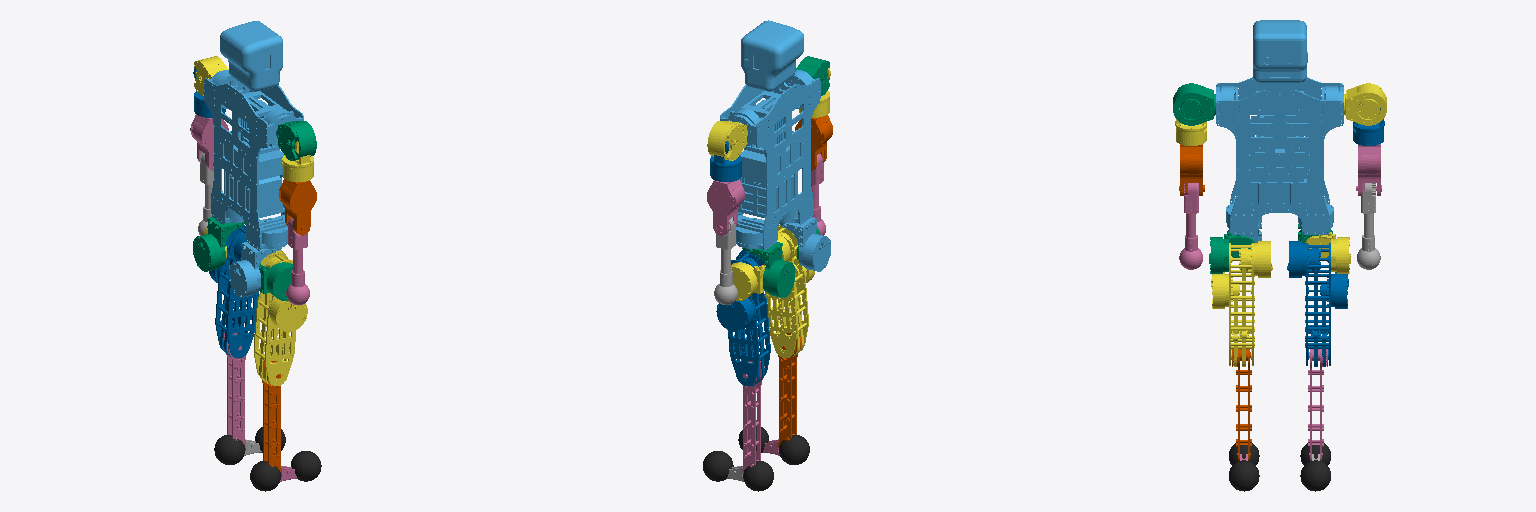
--- Render facts (derived) ---
Views: 3 orthographic renders of the robot side by side, from view 1: azimuth 30°, elevation 25°; view 2: azimuth 150°, elevation 25°; view 3: azimuth 270°, elevation 25°.
Model achilles with 33 links and 32 joints (10 revolute, 22 fixed), rooted at base_link, posed every joint at zero.
Visible links, largest first — view 1: torso, right_hip_pitch, left_hip_pitch, left_knee_pitch, right_knee_pitch, left_hip_yaw, right_shoulder_yaw, right_hip_yaw, right_shoulder_pitch, right_elbow_pitch, right_hip_roll, left_shoulder_yaw (+6 smaller); view 2: torso, left_hip_pitch, right_hip_pitch, right_knee_pitch, left_knee_pitch, right_hip_yaw, left_shoulder_yaw, left_hip_yaw, left_shoulder_pitch, left_elbow_pitch, left_hip_roll, right_shoulder_yaw (+6 smaller); view 3: torso, left_hip_pitch, right_hip_pitch, left_shoulder_pitch, right_shoulder_pitch, right_elbow_pitch, left_elbow_pitch, right_shoulder_yaw, left_shoulder_yaw, left_hip_roll, right_hip_roll, left_knee_pitch (+5 smaller).
Boxes of the visible links, x1=… form: torso: x1=204, y1=21, x2=303, y2=250; right_hip_pitch: x1=254, y1=250, x2=307, y2=385; left_hip_pitch: x1=209, y1=225, x2=258, y2=357; left_knee_pitch: x1=223, y1=333, x2=246, y2=447; right_knee_pitch: x1=259, y1=361, x2=281, y2=472; left_hip_yaw: x1=193, y1=217, x2=244, y2=271; right_shoulder_yaw: x1=279, y1=179, x2=316, y2=235; right_hip_yaw: x1=229, y1=242, x2=281, y2=297; right_shoulder_pitch: x1=277, y1=121, x2=316, y2=160; right_elbow_pitch: x1=286, y1=217, x2=309, y2=304; right_hip_roll: x1=259, y1=262, x2=292, y2=300; left_shoulder_yaw: x1=190, y1=114, x2=228, y2=170; torso: x1=720, y1=20, x2=820, y2=250; left_hip_pitch: x1=716, y1=250, x2=770, y2=385; right_hip_pitch: x1=765, y1=225, x2=814, y2=357; right_knee_pitch: x1=778, y1=333, x2=800, y2=446; left_knee_pitch: x1=742, y1=361, x2=764, y2=473; right_hip_yaw: x1=779, y1=217, x2=830, y2=271; left_shoulder_yaw: x1=707, y1=179, x2=744, y2=235; left_hip_yaw: x1=742, y1=242, x2=794, y2=297; left_shoulder_pitch: x1=707, y1=121, x2=747, y2=160; left_elbow_pitch: x1=714, y1=217, x2=737, y2=304; left_hip_roll: x1=731, y1=262, x2=765, y2=300; right_shoulder_yaw: x1=795, y1=115, x2=832, y2=170; torso: x1=1216, y1=20, x2=1343, y2=234; left_hip_pitch: x1=1287, y1=241, x2=1348, y2=366; right_hip_pitch: x1=1211, y1=241, x2=1272, y2=366; left_shoulder_pitch: x1=1344, y1=83, x2=1386, y2=125; right_shoulder_pitch: x1=1173, y1=83, x2=1215, y2=125; right_elbow_pitch: x1=1179, y1=183, x2=1202, y2=269; left_elbow_pitch: x1=1357, y1=183, x2=1380, y2=269; right_shoulder_yaw: x1=1179, y1=144, x2=1204, y2=195; left_shoulder_yaw: x1=1356, y1=144, x2=1381, y2=195; left_hip_roll: x1=1305, y1=232, x2=1350, y2=273; right_hip_roll: x1=1209, y1=232, x2=1254, y2=273; left_knee_pitch: x1=1308, y1=349, x2=1327, y2=460.
Bounding box of the posed robot: 0.2424 × 0.536 × 1.23 m (x, y, z).
19 mesh visuals loaded from 17 distinct referenced files (17 OBJ).

The robot description file, URDF, robot "achilles":
<?xml version="1.0" ?>
<robot name="achilles">

   <!-- Materials -->
  <material name="black">
    <color rgba="0.2 0.2 0.2 1" />
  </material>
  <material name="caltech_orange">
    <color rgba="0.92 0.39 0.043 1" />
  </material>

  <!-- Base -->
  <link name="base_link"/>
  <link name="torso">
    <inertial>
      <origin rpy="0 0 0" xyz="0 0 -0.107903"/>
      <mass value="8.3"/>
      <inertia ixx="0.172676" ixy="0.0" ixz="0.0" iyy="0.102985" iyz="0.0" izz="0.087971"/>
    </inertial>
    <visual>
      <origin rpy="0 0 0" xyz="0 0 0"/>
      <geometry>
        <mesh filename="../meshes/achilles_obj/torso.obj"/>
      </geometry>
    </visual>
  </link>
  <joint name="base_to_torso_joint" type="fixed">
    <parent link="base_link"/>
    <child link="torso"/>
    <origin rpy="0 0 0" xyz="0 0 0"/>
  </joint>

  <!-- Left Leg -->
  <link name="left_hip_yaw">
    <inertial>
      <origin rpy="0 0 0" xyz="-0.066483 -0.001451 -0.062589"/>
      <mass value="0.80187"/>
      <inertia ixx="0.001907" ixy="0" ixz="0" iyy="0.002034" iyz="0" izz="0.001175"/>
    </inertial>
    <visual>
      <origin rpy="0 0 0" xyz="0 0 0"/>
      <geometry>
        <mesh filename="../meshes/achilles_obj/left_hip_yaw.obj"/>
      </geometry>
    </visual>
  </link>
  <joint name="left_hip_yaw_joint" type="revolute">
    <axis xyz="0 0 1"/>
    <limit effort="35.0" lower="-1" upper="1" velocity="20"/>
    <dynamics damping="0.01"/>
    <origin rpy="0 0 0" xyz="0 0.090 -0.334"/>
    <parent link="torso"/>
    <child link="left_hip_yaw"/>
  </joint>

  <link name="left_hip_roll">
    <inertial>
      <origin rpy="0 0 0" xyz="0.0465 0.055 0.000784"/>
      <mass value="0.843"/>
      <inertia ixx="0.000867" ixy="0" ixz="0" iyy="0.001086" iyz="0" izz="0.001082"/>
    </inertial>
    <visual>
      <origin rpy="0 0 0" xyz="0 0 0"/>
      <geometry>
        <mesh filename="../meshes/achilles_obj/left_hip_roll.obj"/>
      </geometry>
    </visual>
  </link>
  <joint name="left_hip_roll_joint" type="revolute">
    <axis xyz="1 0 0"/>
    <limit effort="70.0" lower="-1" upper="1" velocity="10"/>
    <dynamics damping="0.01"/>
    <origin rpy="0 0 0" xyz="-0.055 0 -0.083"/>
    <parent link="left_hip_yaw"/>
    <child link="left_hip_roll"/>
  </joint>

  <link name="left_hip_pitch">
    <inertial>
      <origin rpy="0 0 0" xyz="0.0139 -0.0336 -0.076"/>
      <mass value="2.42"/>
      <inertia ixx="0.0206" ixy="0" ixz="0" iyy="0.0173" iyz="0" izz="0.00594"/>
    </inertial>
    <visual>
      <origin rpy="0 0 0" xyz="0 0 0"/>
      <geometry>
        <mesh filename="../meshes/achilles_obj/left_hip_pitch.obj"/>
      </geometry>
    </visual>
  </link>
  <joint name="left_hip_pitch_joint" type="revolute">
    <axis xyz="0 1 0"/>
    <limit effort="35.0" lower="-1.5" upper="1.5" velocity="20"/>
    <dynamics damping="0.01"/>
    <origin rpy="0 0 0" xyz="0.055 0.0395 0"/>
    <parent link="left_hip_roll"/>
    <child link="left_hip_pitch"/>
  </joint>

  <link name="left_hip_center">
    <inertial>
      <origin rpy="0 0 0" xyz="0 0 0"/>
      <mass value="0.001"/>
      <inertia ixx="1e-06" ixy="0.0" ixz="0.0" iyy="1e-06" iyz="0.0" izz="1e-06"/>
    </inertial>
  </link>
  <joint name="left_hip_center_joint" type="fixed">
    <origin rpy="0 0 0" xyz="0 -0.0395 0"/>
    <parent link="left_hip_pitch"/>
    <child link="left_hip_center"/>
  </joint>

  <link name="left_knee_pitch">
    <inertial>
      <origin rpy="0 0 0" xyz="0.001 0.003 -0.131"/>
      <mass value="0.556"/>
      <inertia ixx="0.00666" ixy="0" ixz="0" iyy="0.006613" iyz="0" izz="0.000226"/>
    </inertial>
    <visual>
      <origin rpy="0 0 0" xyz="0 0 0"/>
      <geometry>
        <mesh filename="../meshes/achilles_obj/left_knee_pitch.obj"/>
      </geometry>
    </visual>
  </link>
  <joint name="left_knee_pitch_joint" type="revolute">
    <axis xyz="0 1 0"/>
    <origin rpy="0 0 0" xyz="0.0 -0.0395 -0.275"/>
    <parent link="left_hip_pitch"/>
    <child link="left_knee_pitch"/>
    <limit effort="70.0" lower="0" upper="2" velocity="10"/>
    <dynamics damping="0.01"/>
  </joint>

  <link name="left_ankle_pitch">
    <inertial>
      <origin rpy="0 0 0" xyz="0.0272 0.0 -0.0156"/>
      <mass value="0.180"/>
      <inertia ixx="0.000031" ixy="0" ixz="0" iyy="0.000286" iyz="0" izz="0.000272"/>
    </inertial>
    <visual>
      <origin rpy="0 0 0" xyz="0 0 0"/>
      <geometry>
        <mesh filename="../meshes/achilles_obj/ankle_pitch.obj"/>
      </geometry>
    </visual>
  </link>
  <joint name="left_ankle_pitch_joint" type="revolute">
    <axis xyz="0 1 0"/>
    <origin rpy="0 0 0" xyz="0 0 -0.275"/>
    <parent link="left_knee_pitch"/>
    <child link="left_ankle_pitch"/>
    <limit effort="35" lower="-1" upper="1" velocity="20"/>
    <dynamics damping="0.01"/>
  </joint>

  <link name="left_foot">
    <!-- <inertial>
      <origin rpy="0 0 0" xyz="0 0 0"/>
      <mass value="0.001"/>
      <inertia ixx="1e-06" ixy="0.0" ixz="0.0" iyy="1e-06" iyz="0.0" izz="1e-06"/>
    </inertial> -->
  </link>
  
  <joint name="left_foot_joint" type="fixed">
    <origin rpy="0 0 0" xyz="0 0 0"/>
    <parent link="left_ankle_pitch"/>
    <child link="left_foot"/>
  </joint>

  <link name="left_foot_toe">
    <inertial>
      <origin rpy="0 0 0" xyz="0 0 0"/>
      <mass value="0.001"/>
      <inertia ixx="1e-06" ixy="0.0" ixz="0.0" iyy="1e-06" iyz="0.0" izz="1e-06"/>
    </inertial>
    <visual>
      <origin rpy="0 0 0" xyz="0 0 0"/>
      <geometry>
        <sphere radius="0.039"/>
      </geometry>
      <material name="black"/>
    </visual>
    <collision>
      <origin rpy="0 0 0" xyz="0 0 0"/>
      <geometry>
        <sphere radius="0.039"/>
      </geometry>
    </collision>
  </link>
  <joint name="left_foot_toe_joint" type="fixed">
    <origin rpy="0 0 0" xyz="0.09932 0 -0.01259"/>
    <parent link="left_ankle_pitch"/>
    <child link="left_foot_toe"/>
  </joint>

  <link name="left_foot_heel">
    <inertial>
      <origin rpy="0 0 0" xyz="0 0 0"/>
      <mass value="0.001"/>
      <inertia ixx="1e-06" ixy="0.0" ixz="0.0" iyy="1e-06" iyz="0.0" izz="1e-06"/>
    </inertial>
    <visual>
      <origin rpy="0 0 0" xyz="0 0 0"/>
      <geometry>
        <sphere radius="0.039"/>
      </geometry>
      <material name="black"/>
    </visual>
    <collision>
      <origin rpy="0 0 0" xyz="0 0 0"/>
      <geometry>
        <sphere radius="0.039"/>
      </geometry>
    </collision>
  </link>
  <joint name="left_foot_heel_joint" type="fixed">
    <origin rpy="0 0 0" xyz="-0.01859 0 -0.01259"/>
    <parent link="left_ankle_pitch"/>
    <child link="left_foot_heel"/>
  </joint>

    <!-- Left Arm-->
  <link name="left_shoulder_pitch">
    <inertial>
      <origin rpy="0 0 0" xyz="0 0.05 0"/>
      <mass value="0.796"/>
      <inertia ixx="0.000943" ixy="0" ixz="0" iyy="0.00056" iyz="0" izz="0.000675"/>
    </inertial>
    <visual>
      <origin rpy="0 0 0" xyz="0 0 0"/>
      <geometry>
        <mesh filename="../meshes/achilles_obj/left_shoulder_pitch.obj"/>
      </geometry>
    </visual>
  </link>
  <joint name="left_shoulder_pitch_joint" type="fixed">
    <axis xyz="0 1 0"/>
    <limit effort="35" lower="-1.58" upper="1.58" velocity="20"/>
    <dynamics damping="0.01"/>
    <origin rpy="0 0 0" xyz="0 0.159 0"/>
    <parent link="torso"/>
    <child link="left_shoulder_pitch"/>
  </joint>
  
  <link name="left_shoulder_roll">
    <inertial>
      <origin rpy="0 0 0" xyz="0 0 -0.0708"/>
      <mass value="0.484"/>
      <inertia ixx="0.000498" ixy="0" ixz="0" iyy="0.000458" iyz="0" izz="0.000384"/>
    </inertial>
    <visual>
      <origin rpy="0 0 0" xyz="0 0 0"/>
      <geometry>
        <mesh filename="../meshes/achilles_obj/left_shoulder_roll.obj"/>
      </geometry>
    </visual>
  </link>
  <joint name="left_shoulder_roll_joint" type="fixed">
    <axis xyz="1 0 0"/>
    <limit effort="12" lower="0" upper="3.141592653589793" velocity="20"/>
    <dynamics damping="0.01"/>
    <origin rpy="0 0 0" xyz="0 0.063 0"/>
    <parent link="left_shoulder_pitch"/>
    <child link="left_shoulder_roll"/>
  </joint>

  <link name="left_shoulder_center">
    <inertial>
      <origin rpy="0 0 0" xyz="0 0 0"/>
      <mass value="0.001"/>
      <inertia ixx="1e-06" ixy="0.0" ixz="0.0" iyy="1e-06" iyz="0.0" izz="1e-06"/>
    </inertial>
  </link>
  <joint name="left_shoulder_center_joint" type="fixed">
    <origin rpy="0 0 0" xyz="0 0 0"/>
    <parent link="left_shoulder_roll"/>
    <child link="left_shoulder_center"/>
  </joint>

  <link name="left_shoulder_yaw">
    <inertial>
      <origin rpy="0 0 0" xyz="0 0 -0.059"/>
      <mass value="0.5847"/>
      <inertia ixx="0.0007" ixy="0" ixz="0" iyy="0.000796" iyz="0" izz="0.000348"/>
    </inertial>
    <visual>
      <origin rpy="0 0 0" xyz="0 0 0"/>
      <geometry>
        <mesh filename="../meshes/achilles_obj/right_shoulder_yaw.obj"/>
      </geometry>
    </visual>
  </link>
  <joint name="left_shoulder_yaw_joint" type="fixed">
    <origin rpy="0 0 0" xyz="0 0 -0.0986"/>
    <parent link="left_shoulder_roll"/>
    <child link="left_shoulder_yaw"/>
    <axis xyz="0 0 1"/>
    <limit effort="12" lower="-1.58" upper="1.58" velocity="20"/>
  </joint>

  <link name="left_elbow_pitch">
    <inertial>
      <origin rpy="0 0 0" xyz="0 0 -0.1284"/>
      <mass value="0.297"/>
      <inertia ixx="0.0018" ixy="0" ixz="0" iyy="0.0018" iyz="0" izz="0.0001"/>
    </inertial>
    <visual>
      <origin rpy="0 0 0" xyz="0 0 0"/>
      <geometry>
        <mesh filename="../meshes/achilles_obj/left_elbow_pitch.obj"/>
      </geometry>
    </visual>
  </link>
  <joint name="left_elbow_pitch_joint" type="fixed">
    <axis xyz="0 1 0"/>
    <limit effort="24" lower="-1.58" upper="0" velocity="10"/>
    <dynamics damping="0.01"/>
    <origin rpy="0 0 0" xyz="0 0 -0.133"/>
    <parent link="left_shoulder_yaw"/>
    <child link="left_elbow_pitch"/>
  </joint>

  <link name="left_hand">
    <inertial>
      <origin rpy="0 0 0" xyz="0 0 0"/>
      <mass value="0.001"/>
      <inertia ixx="1e-06" ixy="0.0" ixz="0.0" iyy="1e-06" iyz="0.0" izz="1e-06"/>
    </inertial>
  </link>
  <!-- Hand radius is 0.03 m -->
  <joint name="left_hand_joint" type="fixed">
    <origin rpy="0 0 0" xyz="0.0 0.0 -0.19"/>
    <parent link="left_elbow_pitch"/>
    <child link="left_hand"/>
  </joint>



  <!-- Right Leg -->
  <link name="right_hip_yaw">
    <inertial>
      <origin rpy="0 0 0" xyz="-0.066483 0.001451 -0.062589"/>
      <mass value="0.80187"/>
      <inertia ixx="0.001907" ixy="0" ixz="0" iyy="0.002034" iyz="0" izz="0.001175"/>
    </inertial>
    <visual>
      <origin rpy="0 0 0" xyz="0 0 0"/>
      <geometry>
        <mesh filename="../meshes/achilles_obj/right_hip_yaw.obj"/>
      </geometry>
    </visual>
  </link>
  <joint name="right_hip_yaw_joint" type="revolute">
    <axis xyz="0 0 1"/>
    <limit effort="35.0" lower="-1" upper="1" velocity="20"/>
    <dynamics damping="0.01"/>
    <origin rpy="0 0 0" xyz="0 -0.090 -0.334"/>
    <parent link="torso"/>
    <child link="right_hip_yaw"/>
  </joint>

  <link name="right_hip_roll">
    <inertial>
      <origin rpy="0 0 0" xyz="0.0465 -0.055 0.000784"/>
      <mass value="0.843"/>
      <inertia ixx="0.000867" ixy="0" ixz="0" iyy="0.001086" iyz="0" izz="0.001082"/>
    </inertial>
    <visual>
      <origin rpy="0 0 0" xyz="0 0 0"/>
      <geometry>
        <mesh filename="../meshes/achilles_obj/right_hip_roll.obj"/>
      </geometry>
    </visual>
  </link>
  <joint name="right_hip_roll_joint" type="revolute">
    <axis xyz="1 0 0"/>
    <limit effort="70.0" lower="-1" upper="1" velocity="10"/>
    <dynamics damping="0.01"/>
    <origin rpy="0 0 0" xyz="-0.055 0 -0.083"/>
    <parent link="right_hip_yaw"/>
    <child link="right_hip_roll"/>
  </joint>

  <link name="right_hip_pitch">
    <inertial>
      <origin rpy="0 0 0" xyz="0.0139 0.0336 -0.076"/>
      <mass value="2.42"/>
      <inertia ixx="0.0206" ixy="0" ixz="0" iyy="0.0173" iyz="0" izz="0.00594"/>
    </inertial>
    <visual>
      <origin rpy="0 0 0" xyz="0 0 0"/>
      <geometry>
        <mesh filename="../meshes/achilles_obj/right_hip_pitch.obj"/>
      </geometry>
    </visual>
  </link>
  <joint name="right_hip_pitch_joint" type="revolute">
    <axis xyz="0 1 0"/>
    <limit effort="35.0" lower="-1.5" upper="1.5" velocity="20"/>
    <dynamics damping="0.01"/>
    <origin rpy="0 0 0" xyz="0.055 -0.0395 0"/>
    <parent link="right_hip_roll"/>
    <child link="right_hip_pitch"/>
  </joint>

  <link name="right_hip_center">
    <inertial>
      <origin rpy="0 0 0" xyz="0 0 0"/>
      <mass value="0.001"/>
      <inertia ixx="1e-06" ixy="0.0" ixz="0.0" iyy="1e-06" iyz="0.0" izz="1e-06"/>
    </inertial>
  </link>
  <joint name="right_hip_center_joint" type="fixed">
    <origin rpy="0 0 0" xyz="0 0.0395 0"/>
    <parent link="right_hip_pitch"/>
    <child link="right_hip_center"/>
  </joint>

  <link name="right_knee_pitch">
    <inertial>
      <origin rpy="0 0 0" xyz="0.001 -0.003 -0.131"/>
      <mass value="0.556"/>
      <inertia ixx="0.00666" ixy="0" ixz="0" iyy="0.006613" iyz="0" izz="0.000226"/>
    </inertial>
    <visual>
      <origin rpy="0 0 0" xyz="0 0 0"/>
      <geometry>
        <mesh filename="../meshes/achilles_obj/right_knee_pitch.obj"/>
      </geometry>
    </visual>
  </link>
  <joint name="right_knee_pitch_joint" type="revolute">
    <axis xyz="0 1 0"/>
    <origin rpy="0 0 0" xyz="0.0 0.0395 -0.275"/>
    <parent link="right_hip_pitch"/>
    <child link="right_knee_pitch"/>
    <limit effort="70.0" lower="0" upper="2" velocity="10"/>
    <dynamics damping="0.01"/>
  </joint>

  <link name="right_ankle_pitch">
    <inertial>
      <origin rpy="0 0 0" xyz="0.0272 -0.0 -0.0156"/>
      <mass value="0.180"/>
      <inertia ixx="0.000031" ixy="0" ixz="0" iyy="0.000286" iyz="0" izz="0.000272"/>
    </inertial>
    <visual>
      <origin rpy="0 0 0" xyz="0 0 0"/>
      <geometry>
        <mesh filename="../meshes/achilles_obj/ankle_pitch.obj"/>
      </geometry>
    </visual>
  </link>
  <joint name="right_ankle_pitch_joint" type="revolute">
    <axis xyz="0 1 0"/>
    <origin rpy="0 0 0" xyz="0 0 -0.275"/>
    <parent link="right_knee_pitch"/>
    <child link="right_ankle_pitch"/>
    <limit effort="35" lower="-1" upper="1" velocity="20"/>
    <dynamics damping="0.01"/>
  </joint>

  <link name="right_foot">
    <!-- <inertial>
      <origin rpy="0 0 0" xyz="0 0 0"/>
      <mass value="0.001"/>
      <inertia ixx="1e-06" ixy="0.0" ixz="0.0" iyy="1e-06" iyz="0.0" izz="1e-06"/>
    </inertial> -->
  </link>
  <joint name="right_foot_joint" type="fixed">
    <origin rpy="0 0 0" xyz="0 0 0"/>
    <parent link="right_ankle_pitch"/>
    <child link="right_foot"/>
  </joint>

   <link name="right_foot_toe">
    <inertial>
      <origin rpy="0 0 0" xyz="0 0 0"/>
      <mass value="0.001"/>
      <inertia ixx="1e-06" ixy="0.0" ixz="0.0" iyy="1e-06" iyz="0.0" izz="1e-06"/>
    </inertial>
    <visual>
      <origin rpy="0 0 0" xyz="0 0 0"/>
      <geometry>
        <sphere radius="0.039"/>
      </geometry>
      <material name="black"/>
    </visual>
    <collision>
      <origin rpy="0 0 0" xyz="0 0 0"/>
      <geometry>
        <sphere radius="0.039"/>
      </geometry>
    </collision>
  </link>
  <joint name="right_foot_toe_joint" type="fixed">
    <origin rpy="0 0 0" xyz="0.09932 0 -0.01259"/>
    <parent link="right_ankle_pitch"/>
    <child link="right_foot_toe"/>
  </joint>

  <link name="right_foot_heel">
    <inertial>
      <origin rpy="0 0 0" xyz="0 0 0"/>
      <mass value="0.001"/>
      <inertia ixx="1e-06" ixy="0.0" ixz="0.0" iyy="1e-06" iyz="0.0" izz="1e-06"/>
    </inertial>
    <visual>
      <origin rpy="0 0 0" xyz="0 0 0"/>
      <geometry>
        <sphere radius="0.039"/>
      </geometry>
      <material name="black"/>
    </visual>
    <collision>
      <origin rpy="0 0 0" xyz="0 0 0"/>
      <geometry>
        <sphere radius="0.039"/>
      </geometry>
    </collision>
  </link>
  <joint name="right_foot_heel_joint" type="fixed">
    <origin rpy="0 0 0" xyz="-0.01859 0 -0.01259"/>
    <parent link="right_ankle_pitch"/>
    <child link="right_foot_heel"/>
  </joint>

    <!-- Right Arm-->
  <link name="right_shoulder_pitch">
    <inertial>
      <origin rpy="0 0 0" xyz="0 -0.05 0"/>
      <mass value="0.796"/>
      <inertia ixx="0.000943" ixy="0" ixz="0" iyy="0.00056" iyz="0" izz="0.000675"/>
    </inertial>
    <visual>
      <origin rpy="0 0 0" xyz="0 0 0"/>
      <geometry>
        <mesh filename="../meshes/achilles_obj/right_shoulder_pitch.obj"/>
      </geometry>
    </visual>
  </link>
  <joint name="right_shoulder_pitch_joint" type="fixed">
    <axis xyz="0 1 0"/>
    <limit effort="35" lower="-1.58" upper="1.58" velocity="20"/>
    <dynamics damping="0.01"/>
    <origin rpy="0 0 0" xyz="0 -0.159 0"/>
    <parent link="torso"/>
    <child link="right_shoulder_pitch"/>
  </joint>
  
  <link name="right_shoulder_roll">
    <inertial>
      <origin rpy="0 0 0" xyz="0 0 -0.0708"/>
      <mass value="0.484"/>
      <inertia ixx="0.000498" ixy="0" ixz="0" iyy="0.000458" iyz="0" izz="0.000384"/>
    </inertial>
    <visual>
      <origin rpy="0 0 0" xyz="0 0 0"/>
      <geometry>
        <mesh filename="../meshes/achilles_obj/right_shoulder_roll.obj"/>
      </geometry>
    </visual>
  </link>
  <joint name="right_shoulder_roll_joint" type="fixed">
    <axis xyz="1 0 0"/>
    <limit effort="35" lower="-3.14" upper="0" velocity="20"/>
    <dynamics damping="0.01"/>
    <origin rpy="0 0 0" xyz="0 -0.063 0"/>
    <parent link="right_shoulder_pitch"/>
    <child link="right_shoulder_roll"/>
  </joint>

  <link name="right_shoulder_center">
    <inertial>
      <origin rpy="0 0 0" xyz="0 0 0"/>
      <mass value="0.001"/>
      <inertia ixx="1e-06" ixy="0.0" ixz="0.0" iyy="1e-06" iyz="0.0" izz="1e-06"/>
    </inertial>
  </link>
  <joint name="right_shoulder_center_joint" type="fixed">
    <origin rpy="0 0 0" xyz="0 0 0"/>
    <parent link="right_shoulder_roll"/>
    <child link="right_shoulder_center"/>
  </joint>

  <link name="right_shoulder_yaw">
    <inertial>
      <origin rpy="0 0 0" xyz="0 0 -0.059"/>
      <mass value="0.5847"/>
      <inertia ixx="0.0007" ixy="0" ixz="0" iyy="0.000796" iyz="0" izz="0.000348"/>
    </inertial>
    <visual>
      <origin rpy="0 0 0" xyz="0 0 0"/>
      <geometry>
        <mesh filename="../meshes/achilles_obj/right_shoulder_yaw.obj"/>
      </geometry>
    </visual>
  </link>
  <joint name="right_shoulder_yaw_joint" type="fixed">
    <origin rpy="0 0 0" xyz="0 0 -0.0986"/>
    <parent link="right_shoulder_roll"/>
    <child link="right_shoulder_yaw"/>
    <axis xyz="0 0 1"/>
    <limit effort="12.0" lower="-1.58" upper="1.58" velocity="20"/>
  </joint>

  <link name="right_elbow_pitch">
    <inertial>
      <origin rpy="0 0 0" xyz="0 0 -0.1284"/>
      <mass value="0.297"/>
      <inertia ixx="0.0018" ixy="0" ixz="0" iyy="0.0018" iyz="0" izz="0.0001"/>
    </inertial>
    <visual>
      <origin rpy="0 0 0" xyz="0 0 0"/>
      <geometry>
        <mesh filename="../meshes/achilles_obj/right_elbow_pitch.obj"/>
      </geometry>
    </visual>
  </link>
  <joint name="right_elbow_pitch_joint" type="fixed">
    <axis xyz="0 1 0"/>
    <limit effort="24" lower="-1.58" upper="0" velocity="20"/>
    <dynamics damping="0.01"/>
    <origin rpy="0 0 0" xyz="0 0 -0.133"/>
    <parent link="right_shoulder_yaw"/>
    <child link="right_elbow_pitch"/>
  </joint>

  <link name="right_hand">
    <inertial>
      <origin rpy="0 0 0" xyz="0 0 0"/>
      <mass value="0.001"/>
      <inertia ixx="1e-06" ixy="0.0" ixz="0.0" iyy="1e-06" iyz="0.0" izz="1e-06"/>
    </inertial>
  </link>
  <!-- Hand radius is 0.03 m -->
  <joint name="right_hand_joint" type="fixed">
    <origin rpy="0 0 0" xyz="0.0 0.0 -0.19"/>
    <parent link="right_elbow_pitch"/>
    <child link="right_hand"/>
  </joint>

  <link name="static_com">
    <inertial>
      <origin rpy="0 0 0" xyz="0 0 0"/>
      <mass value="0.001"/>
      <inertia ixx="1e-06" ixy="0" ixz="0" iyy="1e-06" iyz="0" izz="1e-06"/>
    </inertial>
  </link>
  <joint name="static_com_joint" type="fixed">
    <origin rpy="0 0 0" xyz="-0.0019 0 -0.286"/>
    <parent link="torso"/>
    <child link="static_com"/>
  </joint>

  <transmission name="left_hip_yaw_transmission">
    <type>transmission_interface/SimpleTransmission</type>
    <joint name="left_hip_yaw_joint">
      <hardwareInterface>hardware_interface/EffortJointInterface</hardwareInterface>
    </joint>
    <actuator name="left_hip_yaw_actuator">
      <mechanicalReduction>1</mechanicalReduction>
    </actuator>
  </transmission>
  <transmission name="left_hip_roll_transmission">
    <type>transmission_interface/SimpleTransmission</type>
    <joint name="left_hip_roll_joint">
      <hardwareInterface>hardware_interface/EffortJointInterface</hardwareInterface>
    </joint>
    <actuator name="left_hip_roll_actuator">
      <mechanicalReduction>1</mechanicalReduction>
    </actuator>
  </transmission>
  <transmission name="left_hip_pitch_transmission">
    <type>transmission_interface/SimpleTransmission</type>
    <joint name="left_hip_pitch_joint">
      <hardwareInterface>hardware_interface/EffortJointInterface</hardwareInterface>
    </joint>
    <actuator name="left_hip_pitch_actuator">
      <mechanicalReduction>1</mechanicalReduction>
    </actuator>
  </transmission>
  <transmission name="left_knee_pitch_transmission">
    <type>transmission_interface/SimpleTransmission</type>
    <joint name="left_knee_pitch_joint">
      <hardwareInterface>hardware_interface/EffortJointInterface</hardwareInterface>
    </joint>
    <actuator name="left_knee_pitch_actuator">
      <mechanicalReduction>1</mechanicalReduction>
    </actuator>
  </transmission>
  <transmission name="left_ankle_pitch_transmission">
    <type>transmission_interface/SimpleTransmission</type>
    <joint name="left_ankle_pitch_joint">
      <hardwareInterface>hardware_interface/EffortJointInterface</hardwareInterface>
    </joint>
    <actuator name="left_ankle_pitch_actuator">
      <mechanicalReduction>1</mechanicalReduction>
    </actuator>
  </transmission> 
<!-- 
  <transmission name="left_shoulder_pitch_transmission">
    <type>transmission_interface/SimpleTransmission</type>
    <joint name="left_shoulder_pitch_joint">
      <hardwareInterface>hardware_interface/EffortJointInterface</hardwareInterface>
    </joint>
    <actuator name="left_shoulder_pitch_actuator">
      <mechanicalReduction>1</mechanicalReduction>
    </actuator>
  </transmission>
  <transmission name="left_shoulder_roll_transmission">
    <type>transmission_interface/SimpleTransmission</type>
    <joint name="left_shoulder_roll_joint">
      <hardwareInterface>hardware_interface/EffortJointInterface</hardwareInterface>
    </joint>
    <actuator name="left_shoulder_roll_actuator">
      <mechanicalReduction>1</mechanicalReduction>
    </actuator>
  </transmission>
  <transmission name="left_shoulder_yaw_transmission">
    <type>transmission_interface/SimpleTransmission</type>
    <joint name="left_shoulder_yaw_joint">
      <hardwareInterface>hardware_interface/EffortJointInterface</hardwareInterface>
    </joint>
    <actuator name="left_shoulder_yaw_actuator">
      <mechanicalReduction>1</mechanicalReduction>
    </actuator>
  </transmission>
  <transmission name="left_elbow_pitch_transmission">
    <type>transmission_interface/SimpleTransmission</type>
    <joint name="left_elbow_pitch_joint">
      <hardwareInterface>hardware_interface/EffortJointInterface</hardwareInterface>
    </joint>
    <actuator name="left_elbow_pitch_actuator">
      <mechanicalReduction>1</mechanicalReduction>
    </actuator>
  </transmission> -->

  <transmission name="right_hip_yaw_transmission">
    <type>transmission_interface/SimpleTransmission</type>
    <joint name="right_hip_yaw_joint">
      <hardwareInterface>hardware_interface/EffortJointInterface</hardwareInterface>
    </joint>
    <actuator name="right_hip_yaw_actuator">
      <mechanicalReduction>1</mechanicalReduction>
    </actuator>
  </transmission>
  <transmission name="right_hip_roll_transmission">
    <type>transmission_interface/SimpleTransmission</type>
    <joint name="right_hip_roll_joint">
      <hardwareInterface>hardware_interface/EffortJointInterface</hardwareInterface>
    </joint>
    <actuator name="right_hip_roll_actuator">
      <mechanicalReduction>1</mechanicalReduction>
    </actuator>
  </transmission>
  <transmission name="right_hip_pitch_transmission">
    <type>transmission_interface/SimpleTransmission</type>
    <joint name="right_hip_pitch_joint">
      <hardwareInterface>hardware_interface/EffortJointInterface</hardwareInterface>
    </joint>
    <actuator name="right_hip_pitch_actuator">
      <mechanicalReduction>1</mechanicalReduction>
    </actuator>
  </transmission>
  <transmission name="right_knee_pitch_transmission">
    <type>transmission_interface/SimpleTransmission</type>
    <joint name="right_knee_pitch_joint">
      <hardwareInterface>hardware_interface/EffortJointInterface</hardwareInterface>
    </joint>
    <actuator name="right_knee_pitch_actuator">
      <mechanicalReduction>1</mechanicalReduction>
    </actuator>
  </transmission>
  <transmission name="right_ankle_pitch_transmission">
    <type>transmission_interface/SimpleTransmission</type>
    <joint name="right_ankle_pitch_joint">
      <hardwareInterface>hardware_interface/EffortJointInterface</hardwareInterface>
    </joint>
    <actuator name="right_ankle_pitch_actuator">
      <mechanicalReduction>1</mechanicalReduction>
    </actuator>
  </transmission> 
<!-- 
  <transmission name="right_shoulder_pitch_transmission">
    <type>transmission_interface/SimpleTransmission</type>
    <joint name="right_shoulder_pitch_joint">
      <hardwareInterface>hardware_interface/EffortJointInterface</hardwareInterface>
    </joint>
    <actuator name="right_shoulder_pitch_actuator">
      <mechanicalReduction>1</mechanicalReduction>
    </actuator>
  </transmission>
  <transmission name="right_shoulder_roll_transmission">
    <type>transmission_interface/SimpleTransmission</type>
    <joint name="right_shoulder_roll_joint">
      <hardwareInterface>hardware_interface/EffortJointInterface</hardwareInterface>
    </joint>
    <actuator name="right_shoulder_roll_actuator">
      <mechanicalReduction>1</mechanicalReduction>
    </actuator>
  </transmission>
  <transmission name="right_shoulder_yaw_transmission">
    <type>transmission_interface/SimpleTransmission</type>
    <joint name="right_shoulder_yaw_joint">
      <hardwareInterface>hardware_interface/EffortJointInterface</hardwareInterface>
    </joint>
    <actuator name="right_shoulder_yaw_actuator">
      <mechanicalReduction>1</mechanicalReduction>
    </actuator>
  </transmission>
  <transmission name="right_elbow_pitch_transmission">
    <type>transmission_interface/SimpleTransmission</type>
    <joint name="right_elbow_pitch_joint">
      <hardwareInterface>hardware_interface/EffortJointInterface</hardwareInterface>
    </joint>
    <actuator name="right_elbow_pitch_actuator">
      <mechanicalReduction>1</mechanicalReduction>
    </actuator>
  </transmission> -->

</robot>
